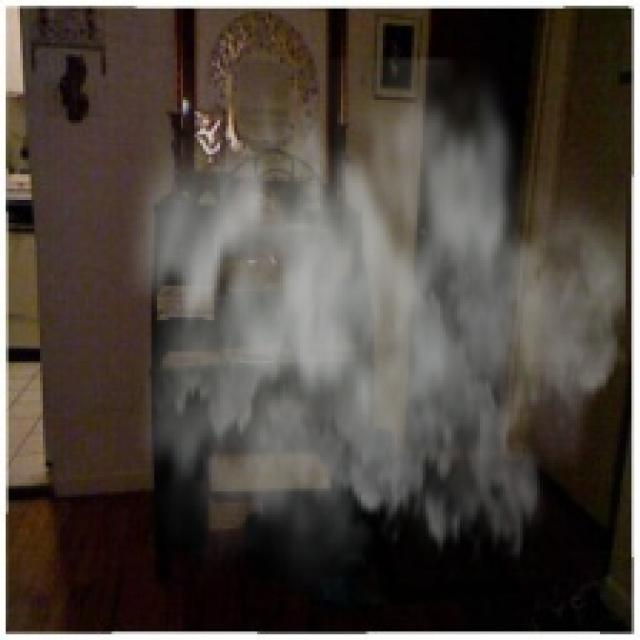smoke: (97, 57, 626, 612)
